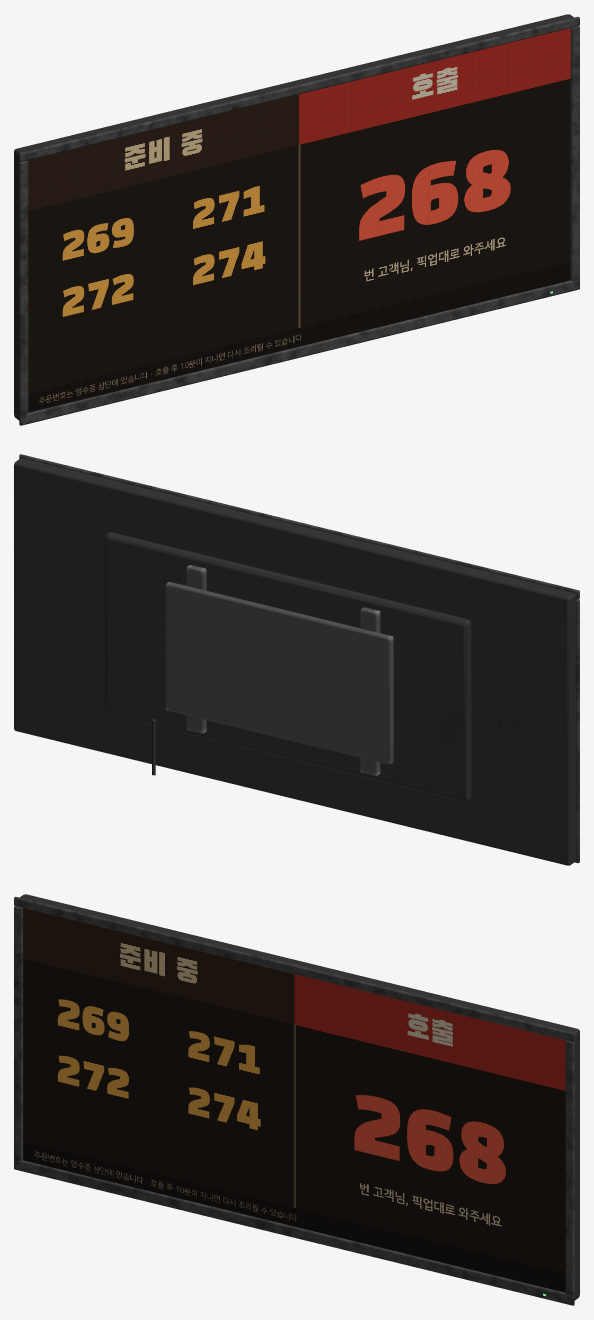
The model's file is StoreOrderBoard.fbx.
3 views of the same model, one above another, from view 1: azimuth 30°, elevation 25°; view 2: azimuth 150°, elevation 25°; view 3: azimuth 330°, elevation 25° (orthographic).
Parts seen in each view (by area): view 1: StoreOrderBoard_Screen, StoreOrderBoard_Body; view 2: StoreOrderBoard_Body; view 3: StoreOrderBoard_Screen, StoreOrderBoard_Body.
Boxes of the visible parts, x1,y1,x2,y2 form: StoreOrderBoard_Screen: (28, 28, 570, 412); StoreOrderBoard_Body: (14, 14, 579, 425); StoreOrderBoard_Body: (14, 454, 579, 865); StoreOrderBoard_Screen: (23, 908, 565, 1292); StoreOrderBoard_Body: (14, 894, 579, 1305).
Size of the model in its own units: 1.29 by 0.6 by 0.0905.
